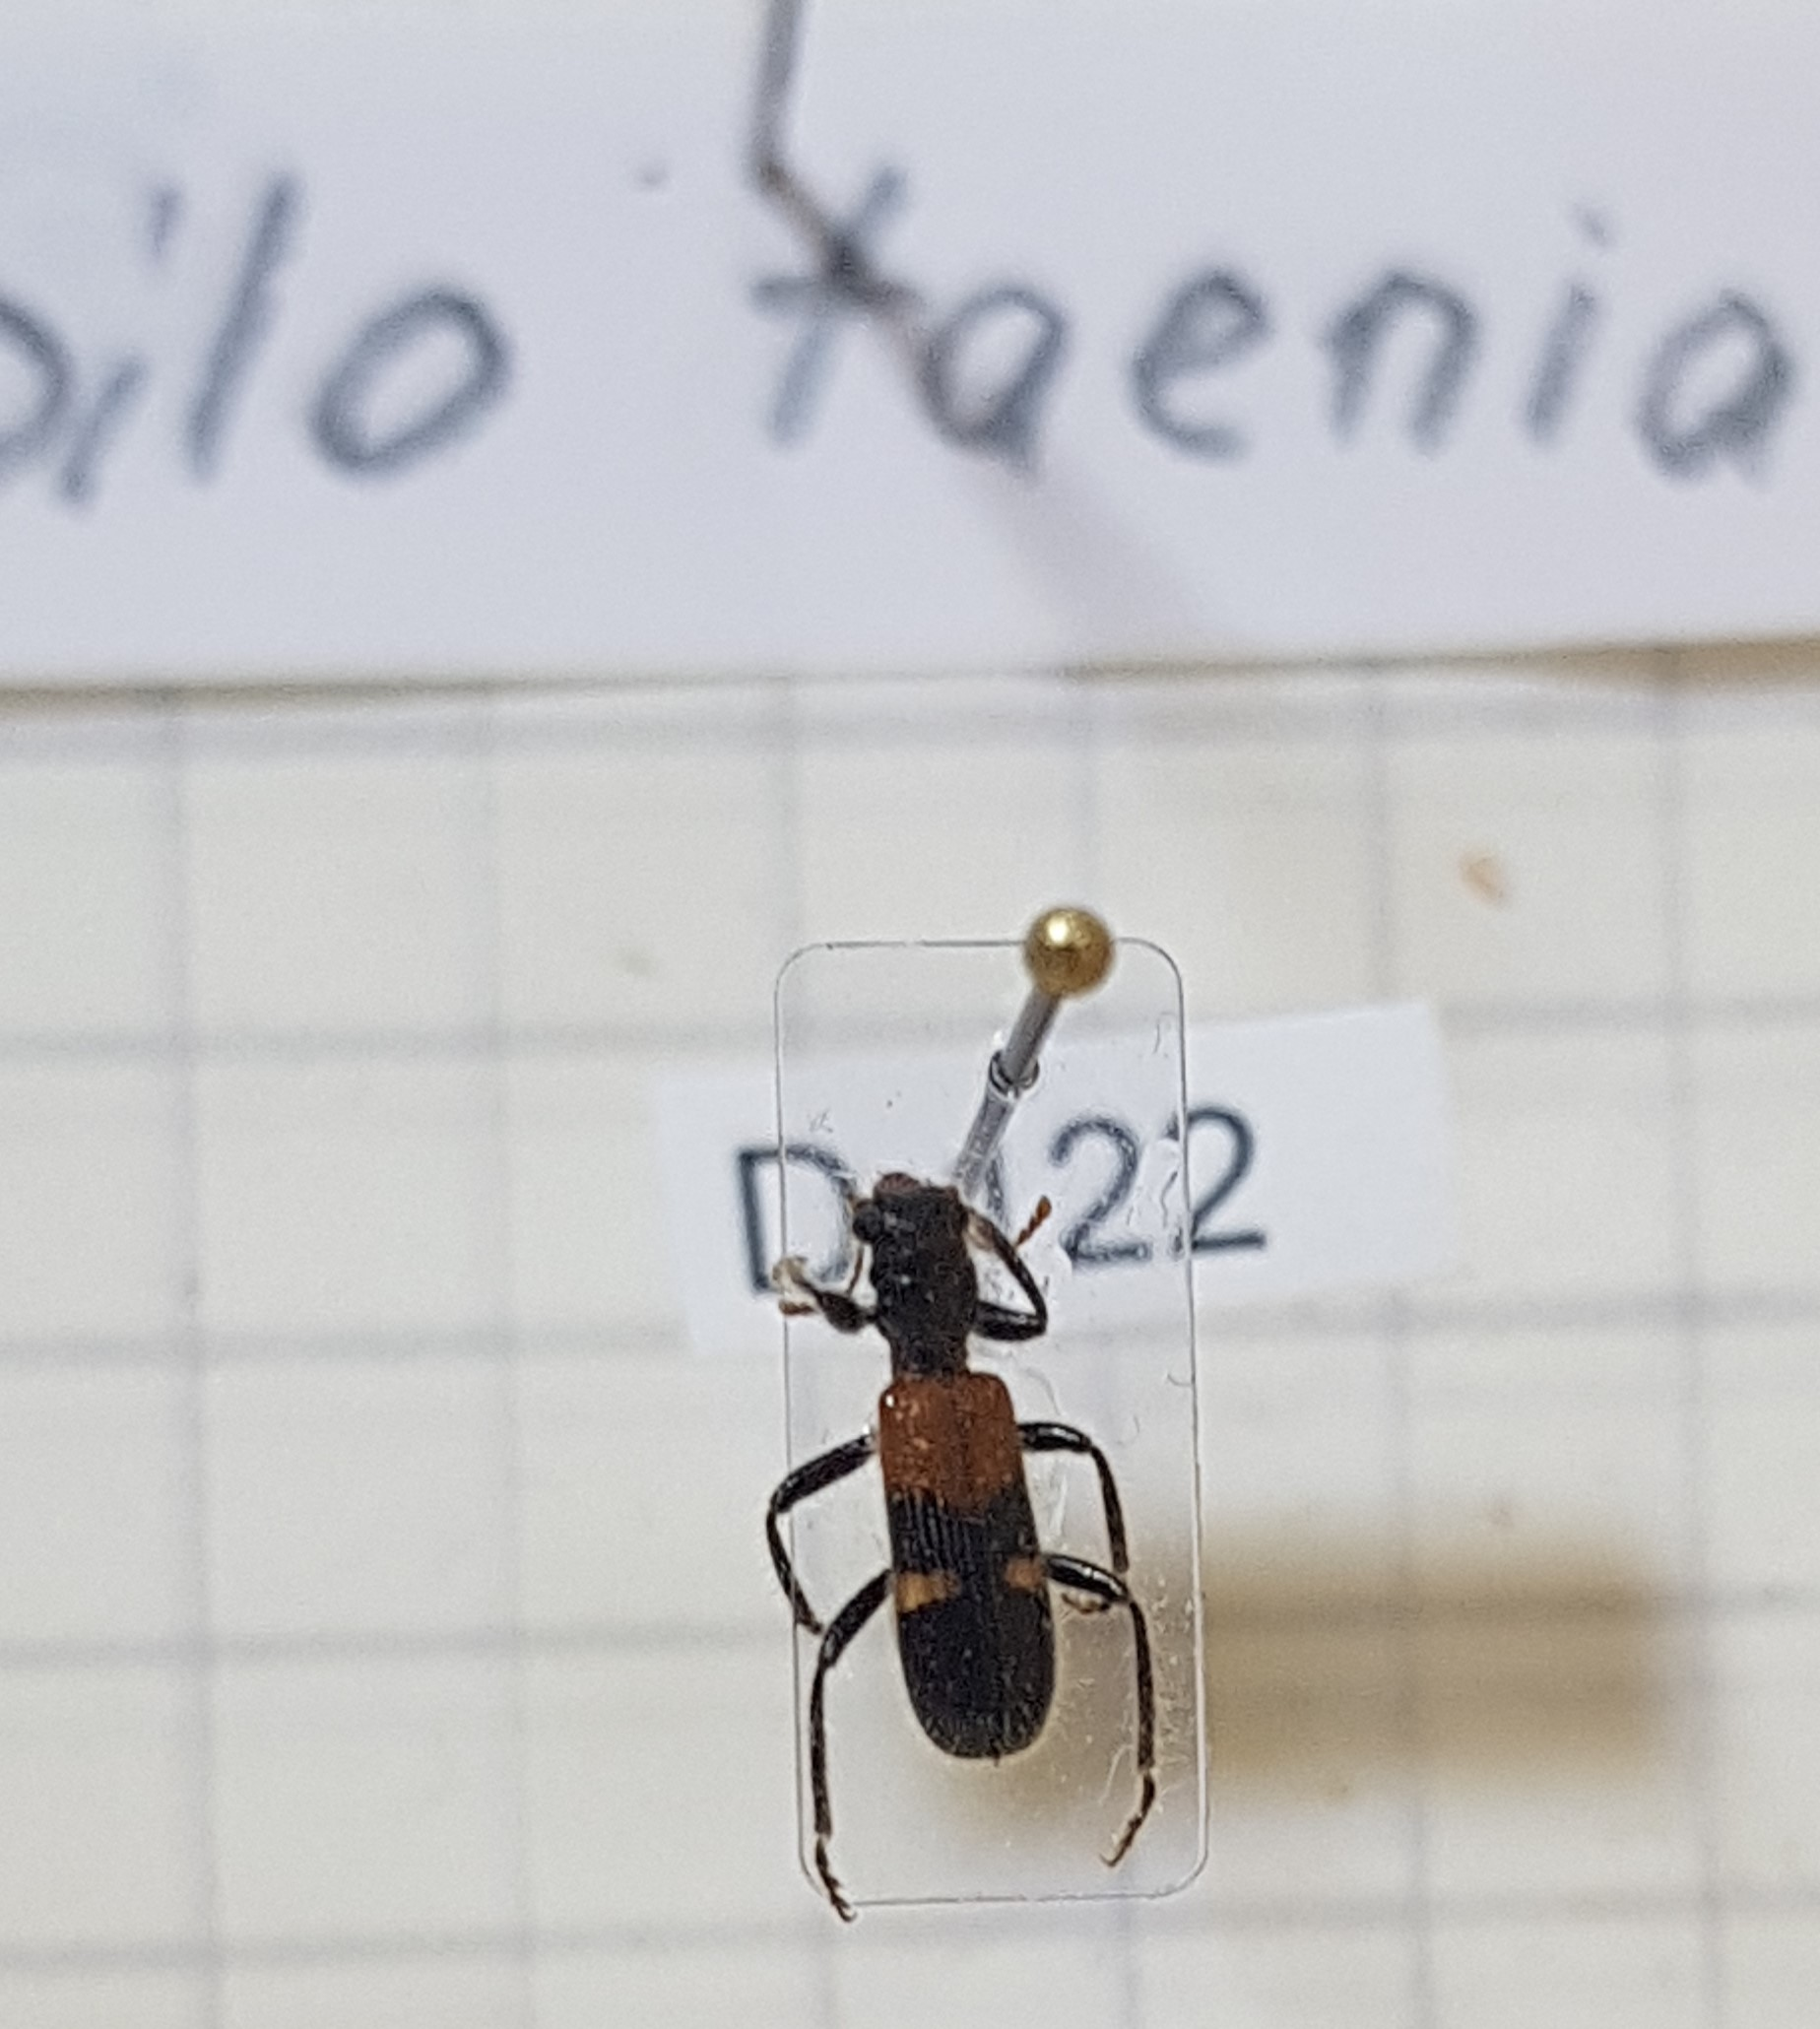opilo_taeniatus: (769, 1172, 1165, 1931)
